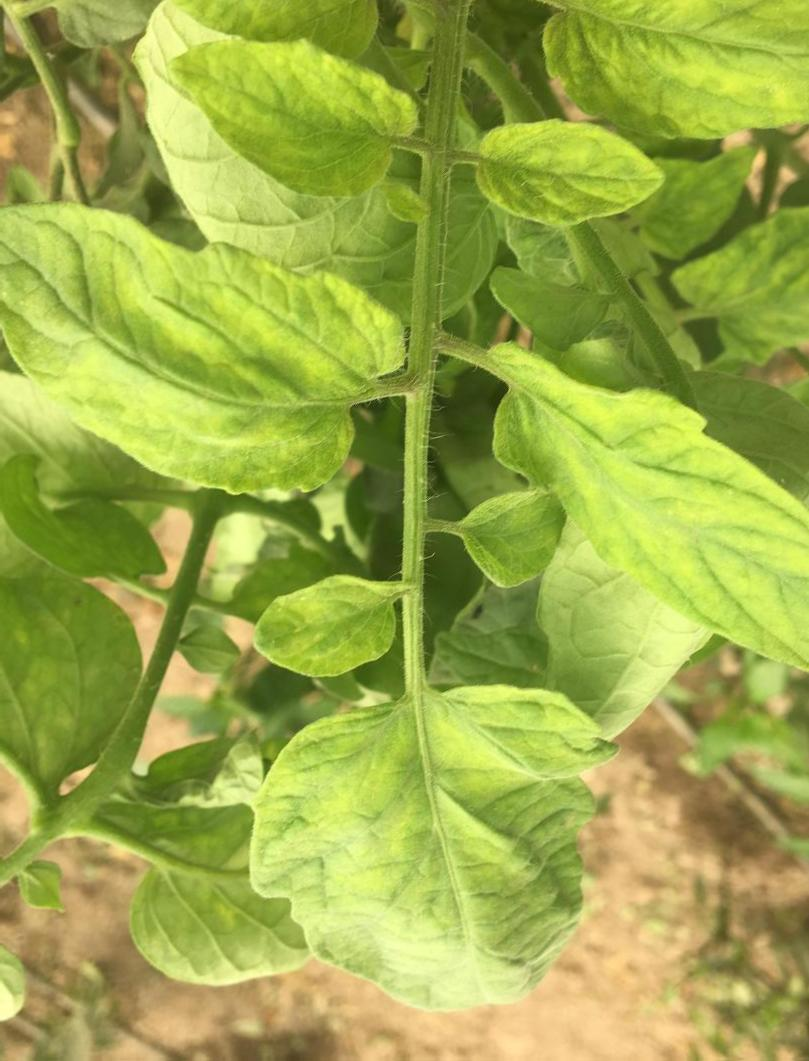Tomato leaf yellow virus: (242, 672, 618, 1034), (0, 163, 370, 499), (503, 374, 809, 700), (120, 20, 460, 255), (511, 0, 809, 167)
